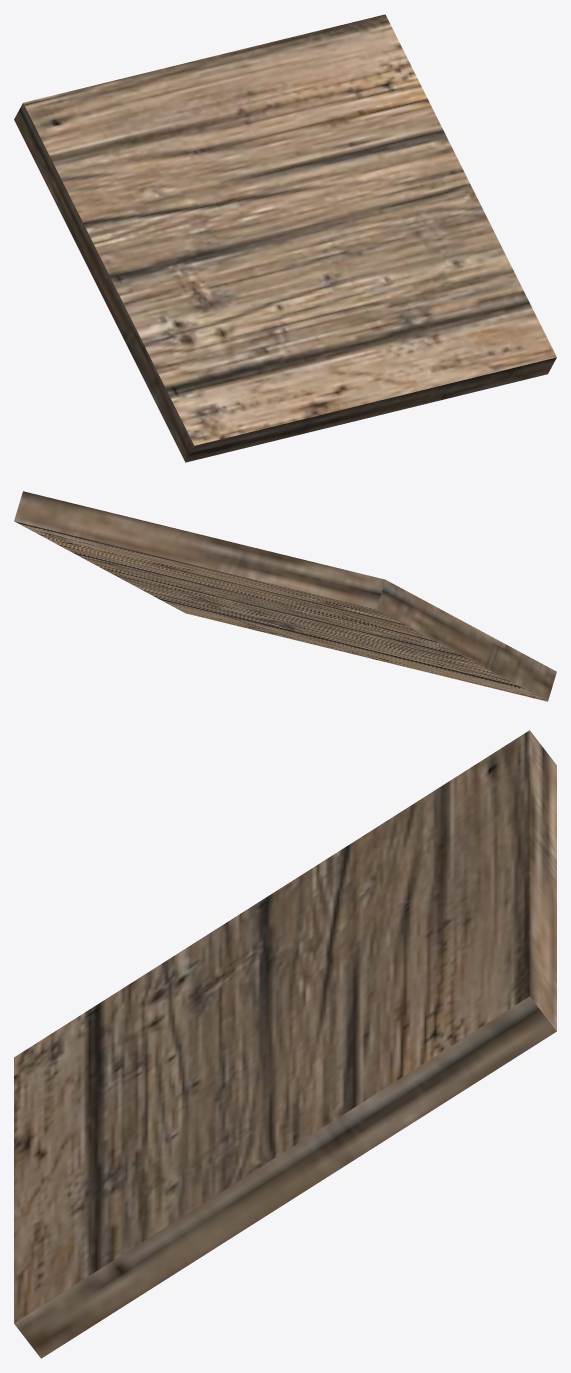
File: wood roofing.glb
3 renders of one model, top to bottom at view 1: azimuth 30°, elevation 25°; view 2: azimuth 150°, elevation 25°; view 3: azimuth 270°, elevation 25°, orthographic. The views are drawn at different scales.
Visible parts, largest first — view 1: Plane.002; view 2: Plane.002; view 3: Plane.002.
Boxes of the visible parts, left/top/right/bottom form: Plane.002: left=14, top=14, right=556, bottom=462; Plane.002: left=14, top=491, right=556, bottom=701; Plane.002: left=14, top=730, right=556, bottom=1358.
Size of the model in its own units: 1 by 0.6353 by 0.8624.
1 material, 1 textured.
